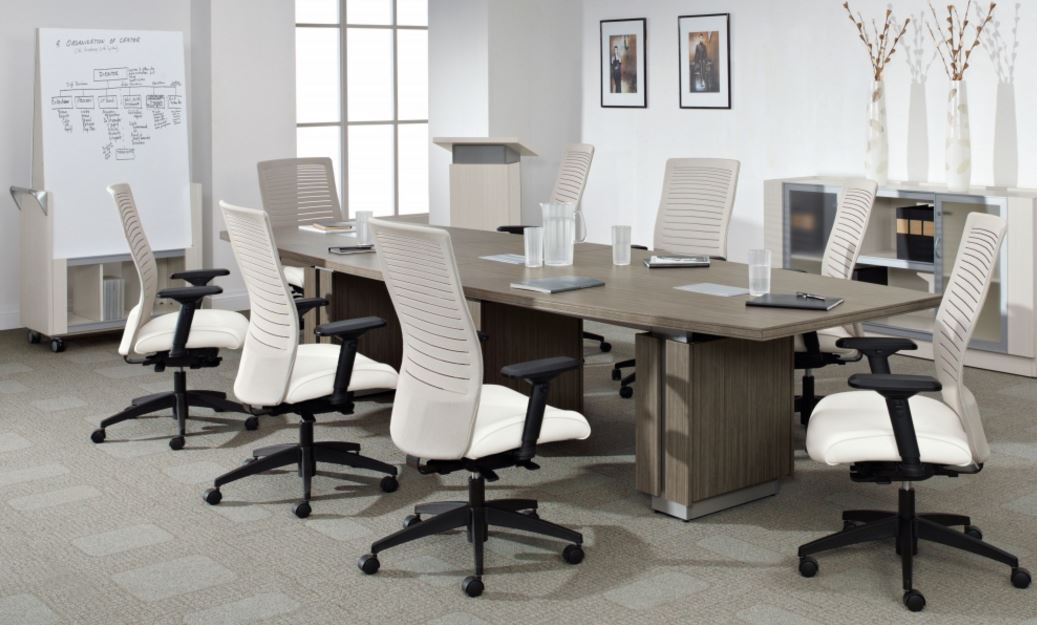conference_table: (247, 216, 943, 524)
